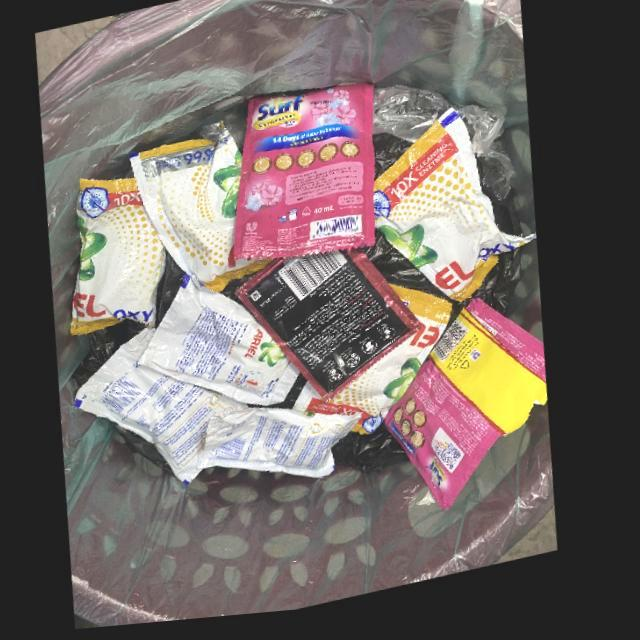plastic_sachet: (388, 308, 554, 519), (377, 115, 541, 310), (239, 255, 426, 407), (81, 329, 256, 489), (234, 87, 381, 267), (131, 127, 279, 297), (299, 292, 457, 444), (144, 278, 306, 411), (75, 179, 170, 337), (207, 414, 372, 487)
